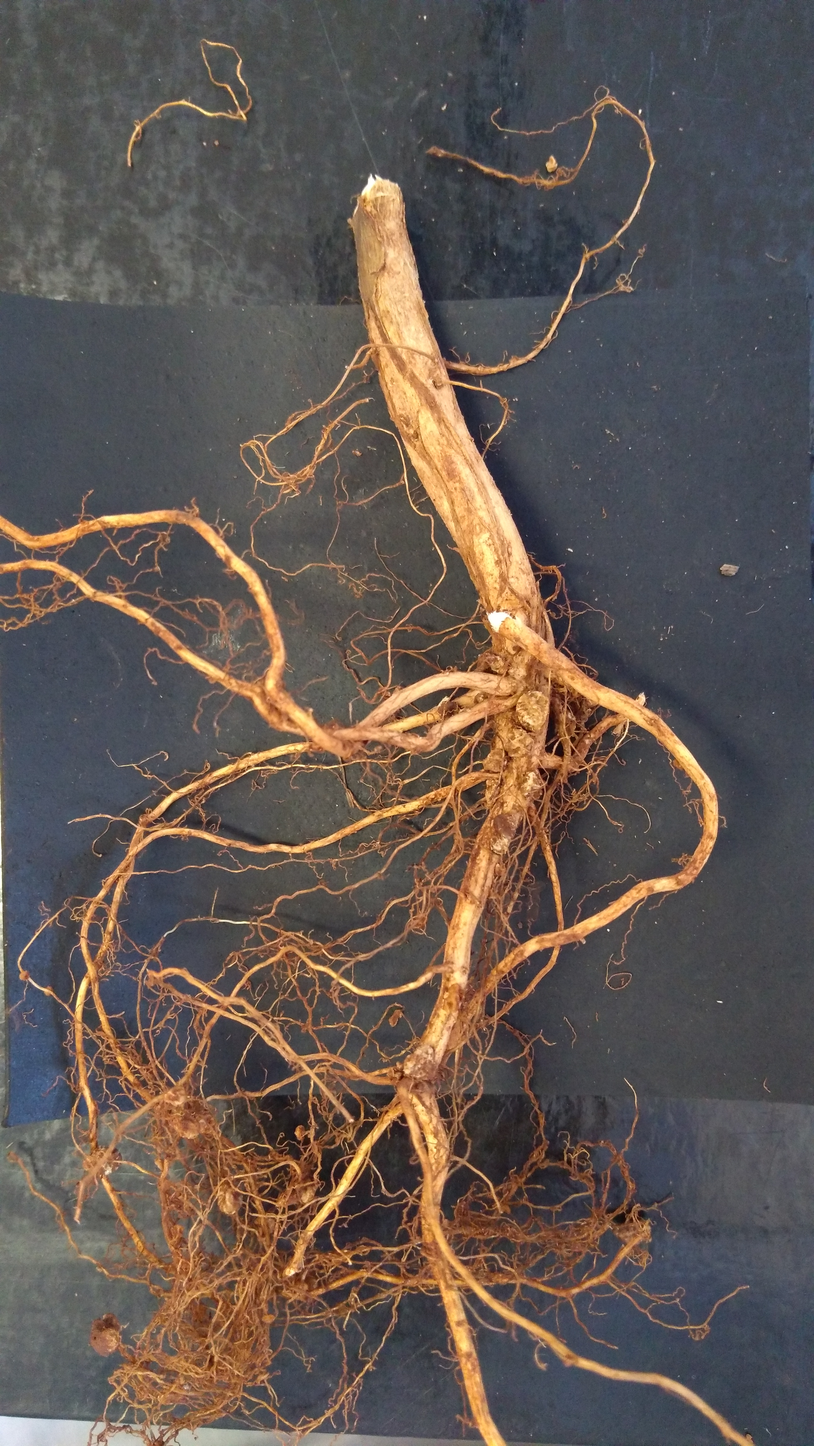nodule: (511, 685, 552, 734), (84, 1311, 122, 1362), (488, 810, 520, 858), (79, 1143, 125, 1176), (499, 726, 534, 765), (400, 1044, 437, 1079), (215, 1183, 247, 1219), (170, 1109, 202, 1142), (519, 767, 546, 801), (298, 1177, 321, 1209), (482, 747, 507, 772), (163, 1084, 190, 1107), (487, 890, 510, 916), (443, 982, 460, 1013), (385, 1006, 405, 1030), (261, 1214, 281, 1238), (485, 777, 501, 807), (543, 152, 562, 176), (166, 1222, 183, 1241), (294, 1124, 309, 1142), (260, 1310, 276, 1325), (17, 969, 32, 982), (394, 1058, 407, 1072), (42, 984, 55, 998), (495, 861, 506, 875)
